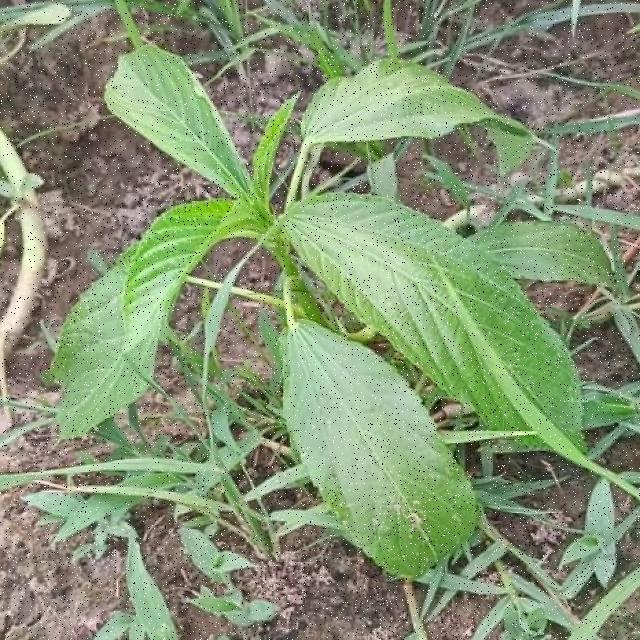plant: (55, 46, 634, 578)
